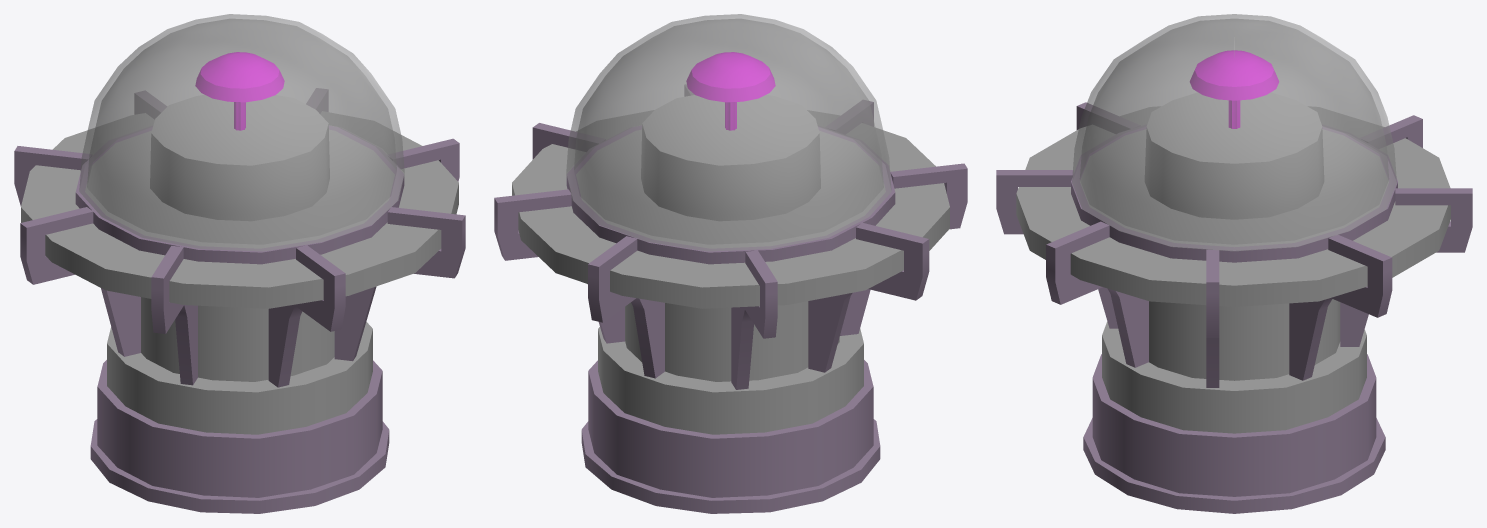
The model's file is PowerSink.fbx.
The picture shows the model from 3 angles, left to right: view 1: azimuth 30°, elevation 25°; view 2: azimuth 150°, elevation 25°; view 3: azimuth 270°, elevation 25°; orthographic projection.
Parts seen in each view (by area): view 1: polySurface45, polySurface41, polySurface43, polySurface35, polySurface47, polySurface46; view 2: polySurface45, polySurface41, polySurface43, polySurface35, polySurface47, polySurface46; view 3: polySurface45, polySurface41, polySurface43, polySurface35, polySurface47, polySurface46.
Boxes of the visible parts, bbox=[...] form: polySurface45: bbox=[21, 111, 458, 434]; polySurface41: bbox=[79, 14, 404, 251]; polySurface43: bbox=[90, 360, 389, 513]; polySurface35: bbox=[14, 88, 465, 387]; polySurface47: bbox=[150, 94, 329, 221]; polySurface46: bbox=[195, 52, 284, 130]; polySurface45: bbox=[512, 110, 949, 434]; polySurface41: bbox=[566, 14, 891, 251]; polySurface43: bbox=[581, 360, 880, 513]; polySurface35: bbox=[494, 85, 967, 389]; polySurface47: bbox=[641, 94, 820, 221]; polySurface46: bbox=[686, 52, 775, 130]; polySurface45: bbox=[1016, 107, 1450, 433]; polySurface41: bbox=[1072, 14, 1396, 251]; polySurface43: bbox=[1083, 354, 1385, 513]; polySurface35: bbox=[996, 102, 1472, 387]; polySurface47: bbox=[1144, 92, 1324, 219]; polySurface46: bbox=[1190, 50, 1278, 128].
Size of the model in its own units: 7.99 by 7.66 by 7.99.
